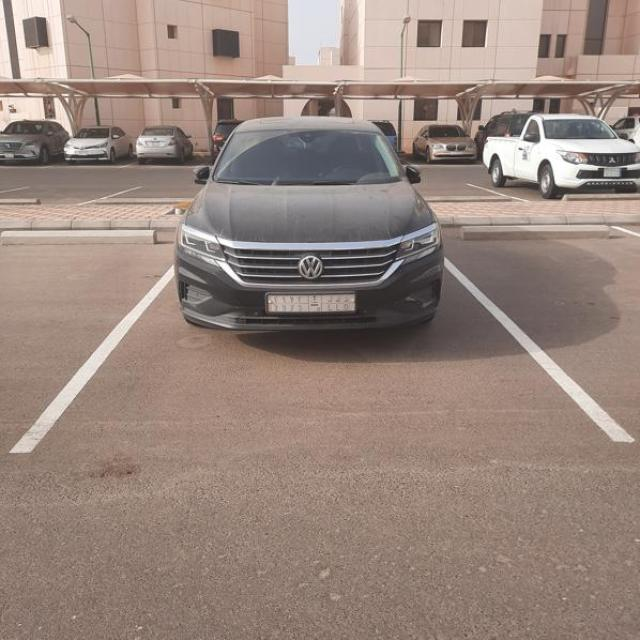license_plate: (267, 294, 356, 313), (604, 168, 622, 177)
